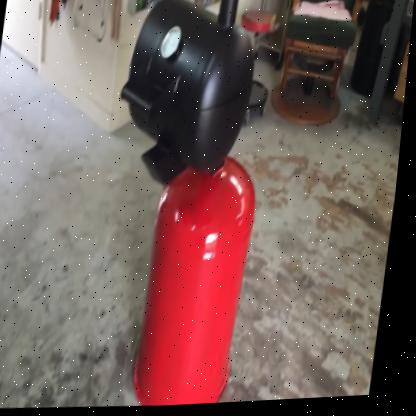gas-tank: (125, 128, 287, 409)
